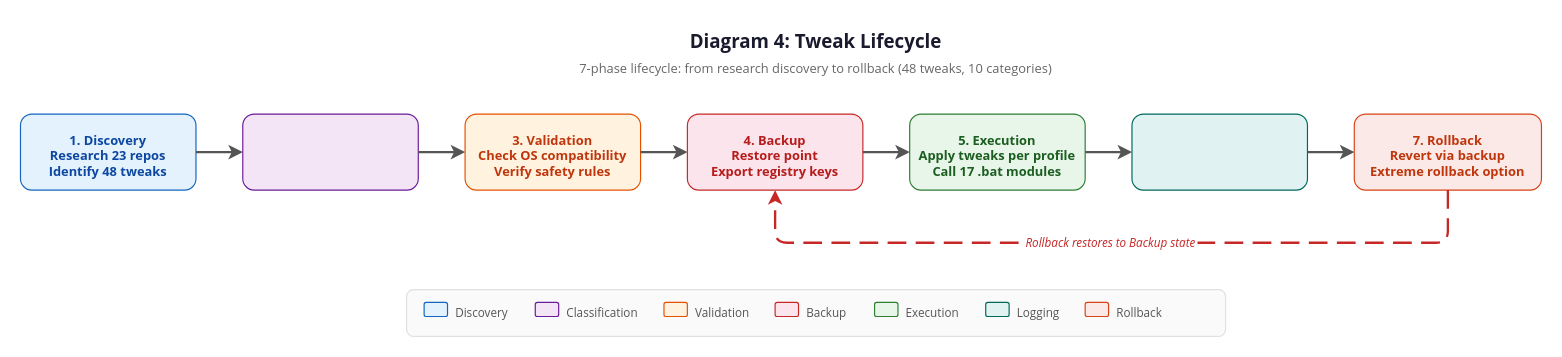
This 1562x357 diagram has some shape labels left out. Each missing label, with the centre of its shape:
"2. Classification Assign risk level Map to profile" belongs at point 330,151.
"6. Logging Flight recorder Structured audit trail" belongs at point 1219,151.
